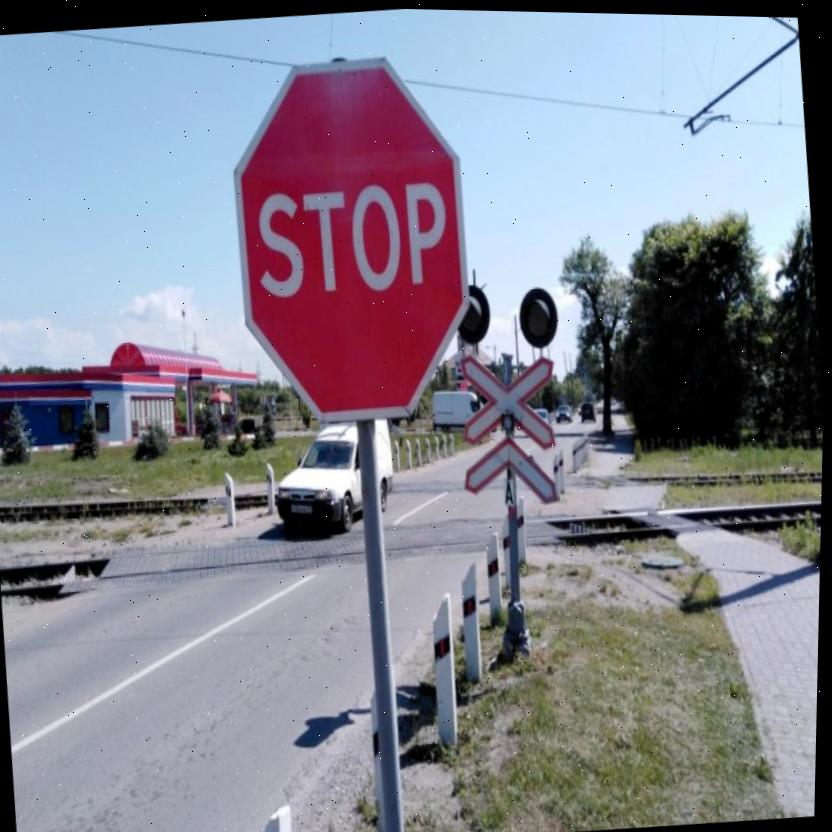Pole: (350, 430, 413, 832), (506, 510, 526, 600)
Sign: (220, 45, 484, 429)
